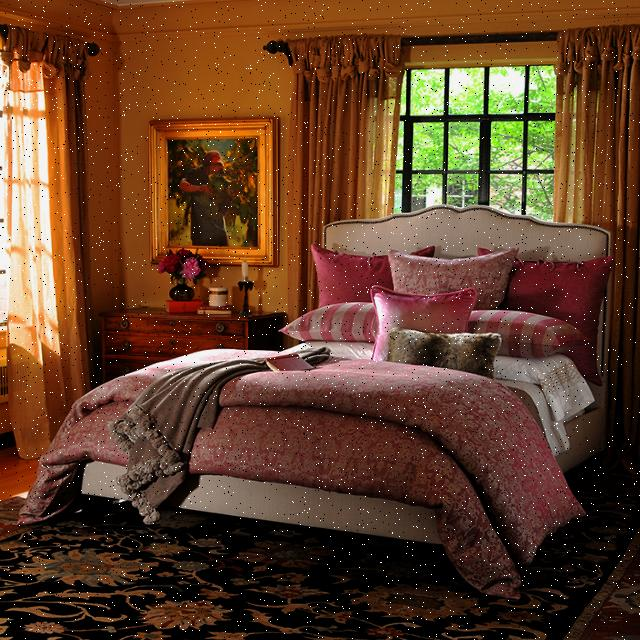bed: (45, 232, 631, 532)
